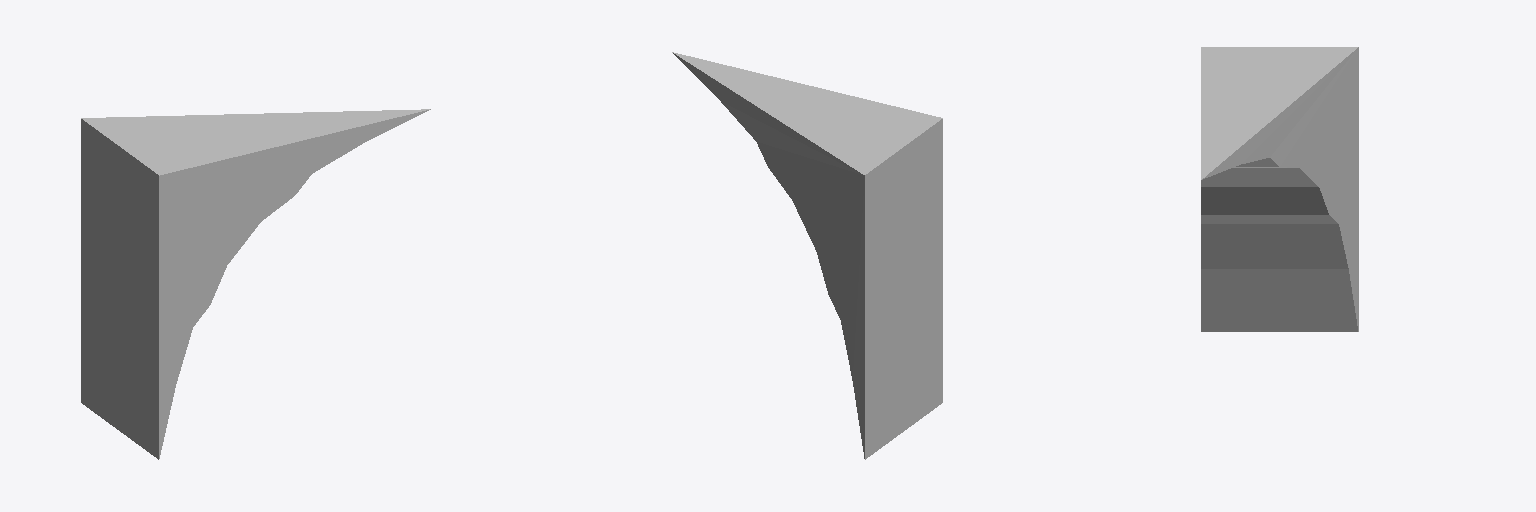
File: arcshir.obj
3 renders of one model, left to right at view 1: azimuth 30°, elevation 25°; view 2: azimuth 150°, elevation 25°; view 3: azimuth 270°, elevation 25°, orthographic.
Size of the model in its own units: 1 by 1 by 0.5.